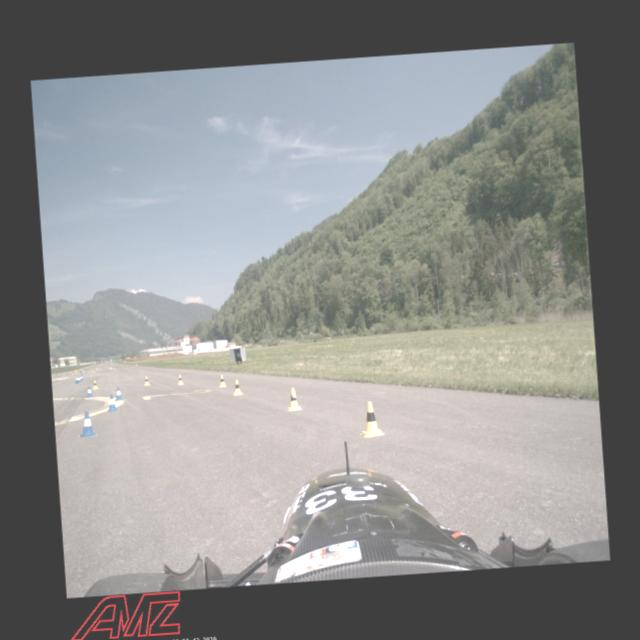blue_cone: (76, 410, 96, 437), (105, 393, 118, 411), (114, 386, 122, 401), (85, 386, 93, 397), (74, 376, 78, 382), (81, 374, 84, 380), (78, 376, 80, 382), (80, 376, 82, 380)
yellow_cone: (357, 400, 384, 438), (285, 387, 302, 411), (232, 379, 243, 395), (217, 374, 226, 388), (176, 374, 184, 385), (144, 374, 150, 386), (92, 380, 98, 390)
